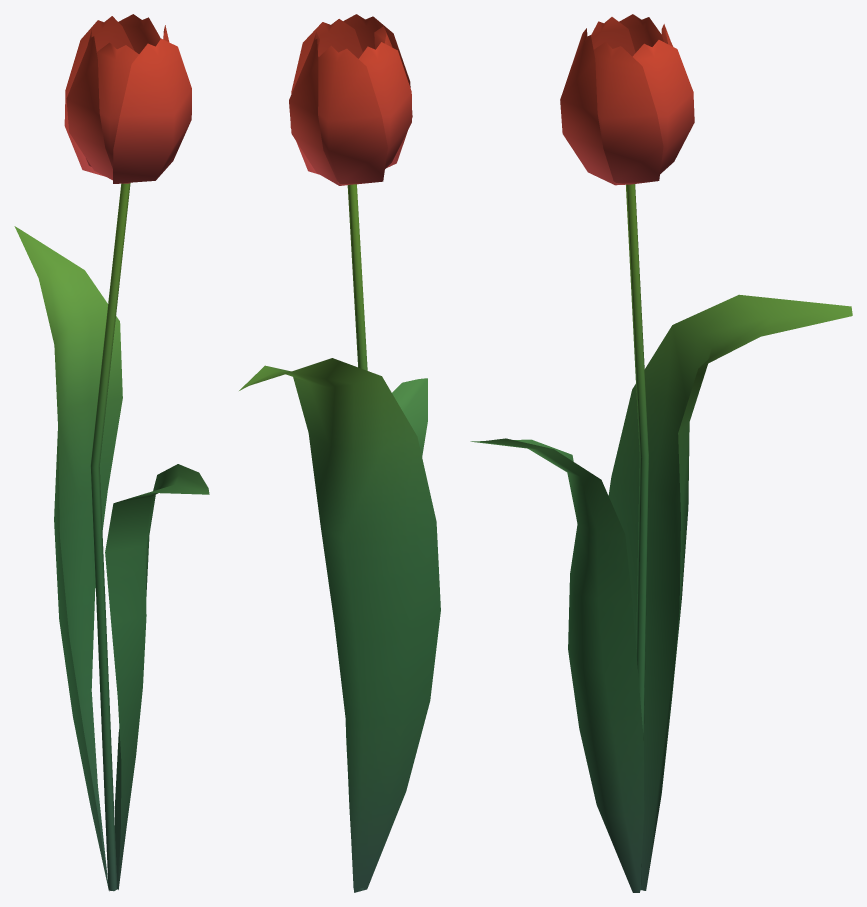
File: flower8.glb
The picture shows the model from 3 angles, left to right: view 1: azimuth 30°, elevation 25°; view 2: azimuth 150°, elevation 25°; view 3: azimuth 270°, elevation 25°; orthographic projection.
Parts seen in each view (by area): view 1: Flower.008; view 2: Flower.008; view 3: Flower.008.
Part boxes in pixels (left/top/right/bottom): Flower.008: left=14, top=14, right=209, bottom=891; Flower.008: left=239, top=14, right=440, bottom=892; Flower.008: left=470, top=14, right=852, bottom=892.
Bounding box in the file's own units: 0.3528 × 2.27 × 0.9088.
1 material, 1 textured.
